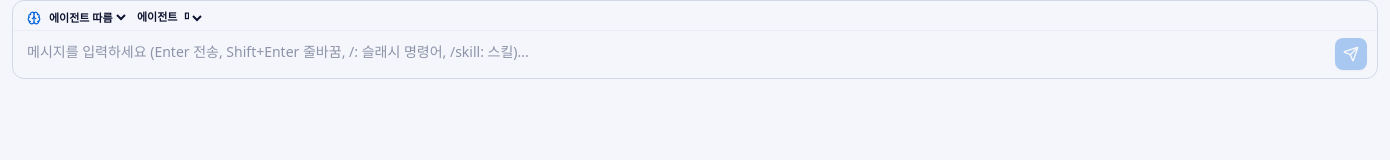
Scenario: ChatInput component › shows error banner when skill is not found
Replace the text in the text box with "/skill:non-existent" at (695, 52), box [13,31,1377,72]
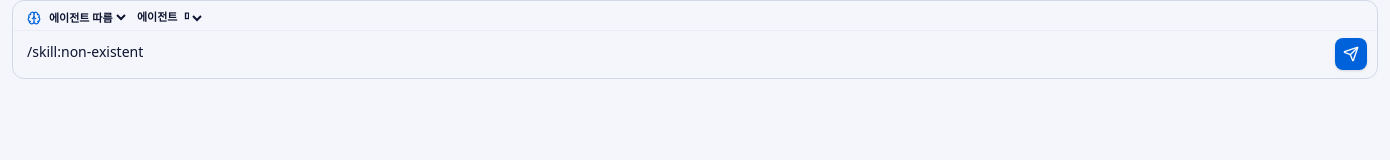
Press Enter in the text box, box [13,31,1377,72]
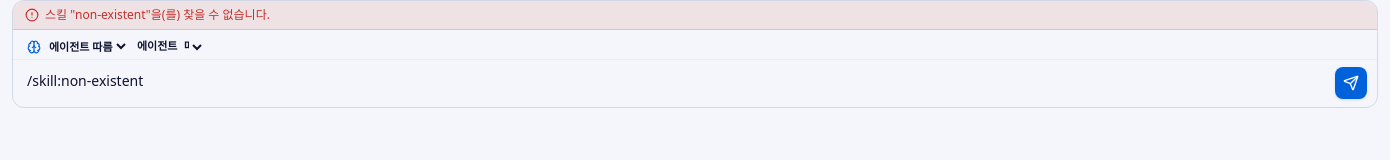
Result: the text "스킬 \"non-existent\"을(를) 찾을 수 없습니다." is shown at [45,7,270,23]
